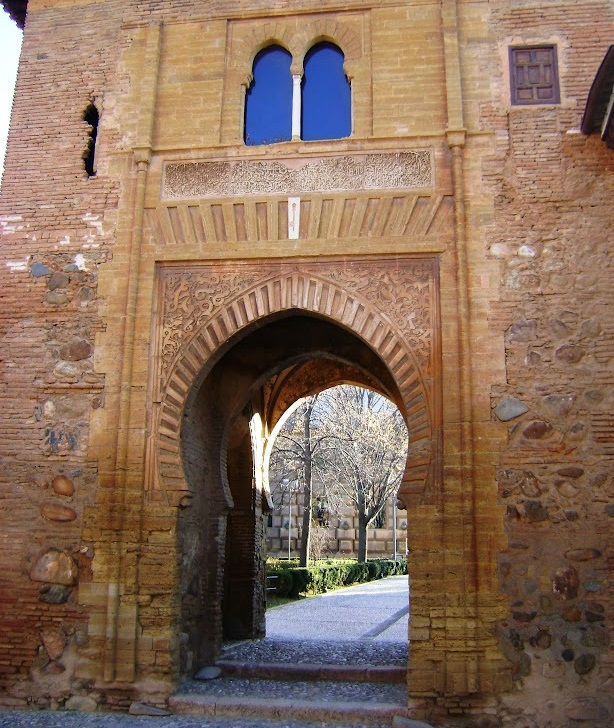arco-herradura: (167, 298, 426, 515), (297, 30, 354, 87), (240, 33, 296, 86)
dintel-adovelado: (153, 192, 446, 246)
